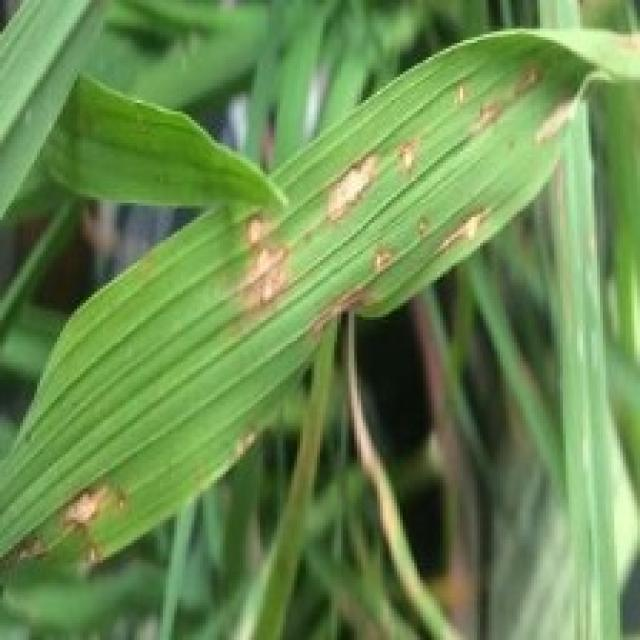Rice___Rice_Blast: (0, 25, 637, 581)
